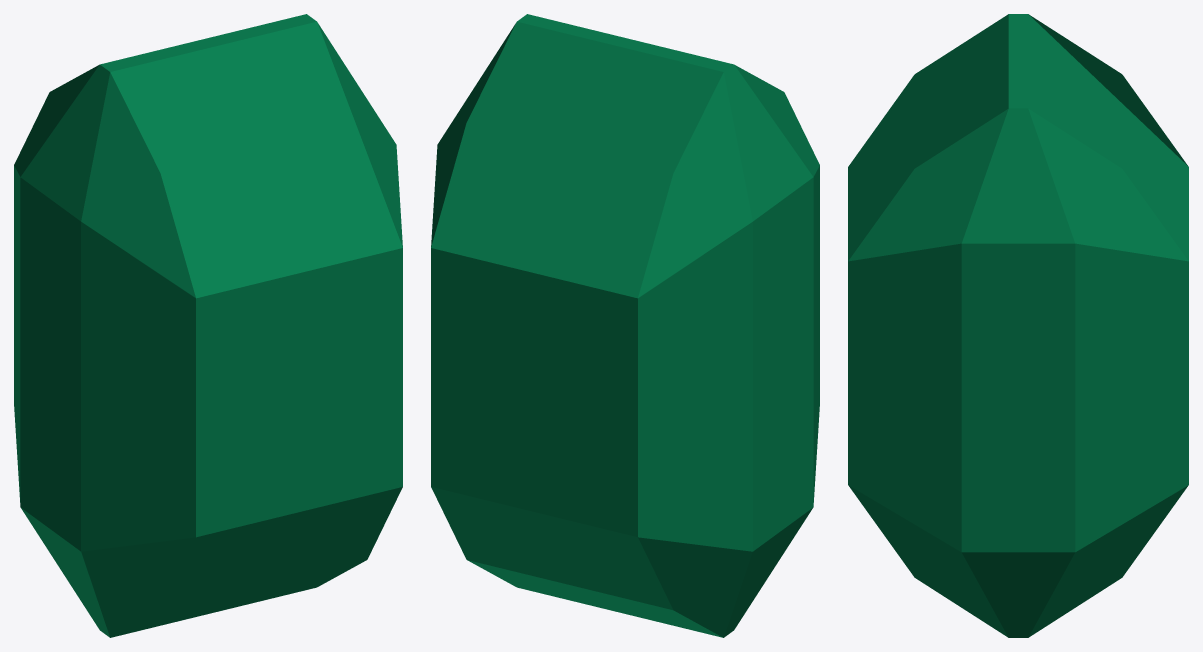
File: szmaragd.fbx
The picture shows the model from 3 angles, left to right: view 1: azimuth 30°, elevation 25°; view 2: azimuth 150°, elevation 25°; view 3: azimuth 270°, elevation 25°; orthographic projection. The views are drawn at different scales.
Visible parts, largest first — view 1: Sześcian; view 2: Sześcian; view 3: Sześcian.
Part boxes in pixels (x1=…): Sześcian: x1=14, y1=14, x2=402, y2=637; Sześcian: x1=431, y1=14, x2=819, y2=637; Sześcian: x1=848, y1=14, x2=1188, y2=637.
Bounding box in the file's own units: 20 × 34.29 × 20.
